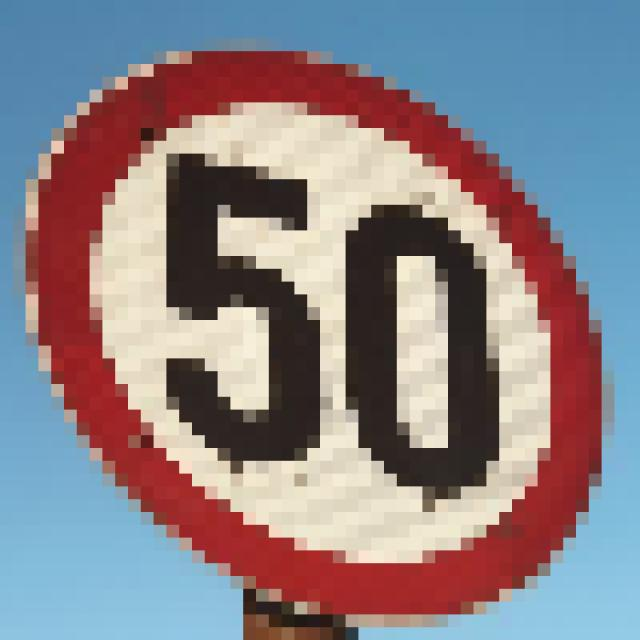Limite-50: (21, 40, 606, 622)
